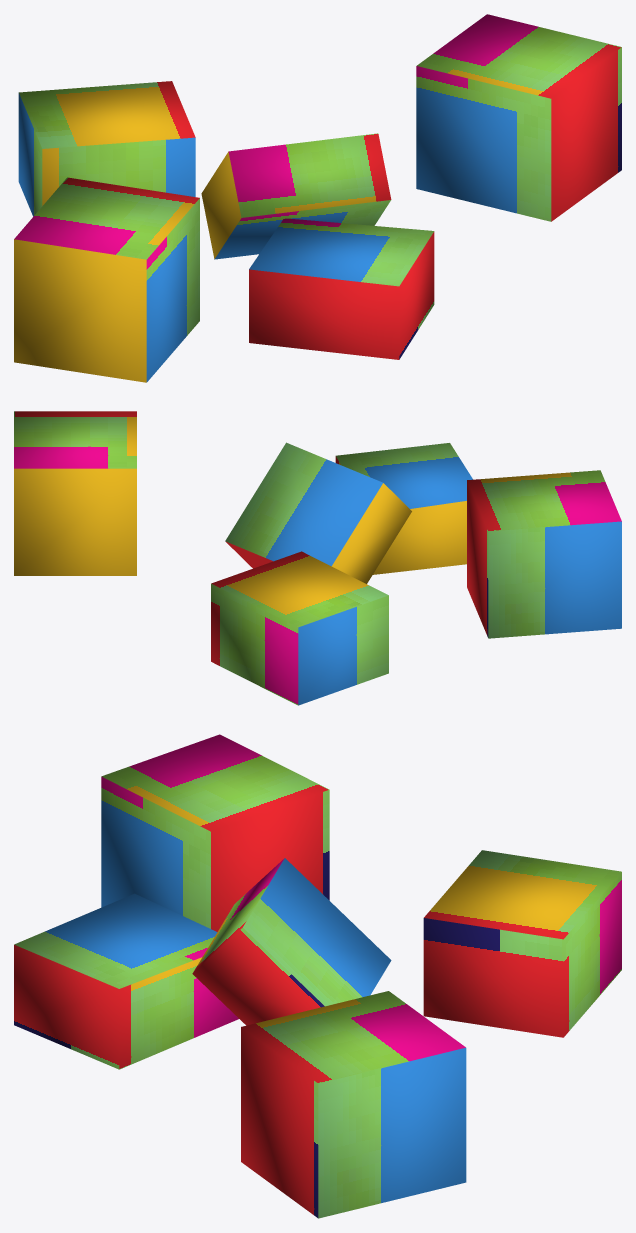
Rendered from WorldItem_JellyBeans.fbx.
3 renders of one model, top to bottom at view 1: azimuth 30°, elevation 25°; view 2: azimuth 150°, elevation 25°; view 3: azimuth 270°, elevation 25°, orthographic. The views are drawn at different scales.
Parts seen in each view (by area): view 1: BaconBits; view 2: BaconBits; view 3: BaconBits.
Boxes of the visible parts, <box> form: BaconBits: <box>14,14,621,382</box>; BaconBits: <box>14,411,621,705</box>; BaconBits: <box>14,734,621,1218</box>.
Size of the model in its own units: 17.41 by 3.31 by 12.81.
